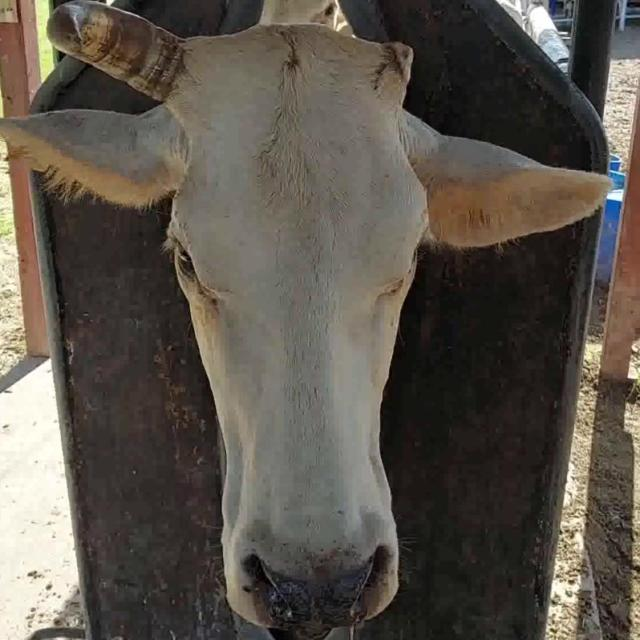cowFace: (175, 13, 437, 622)
